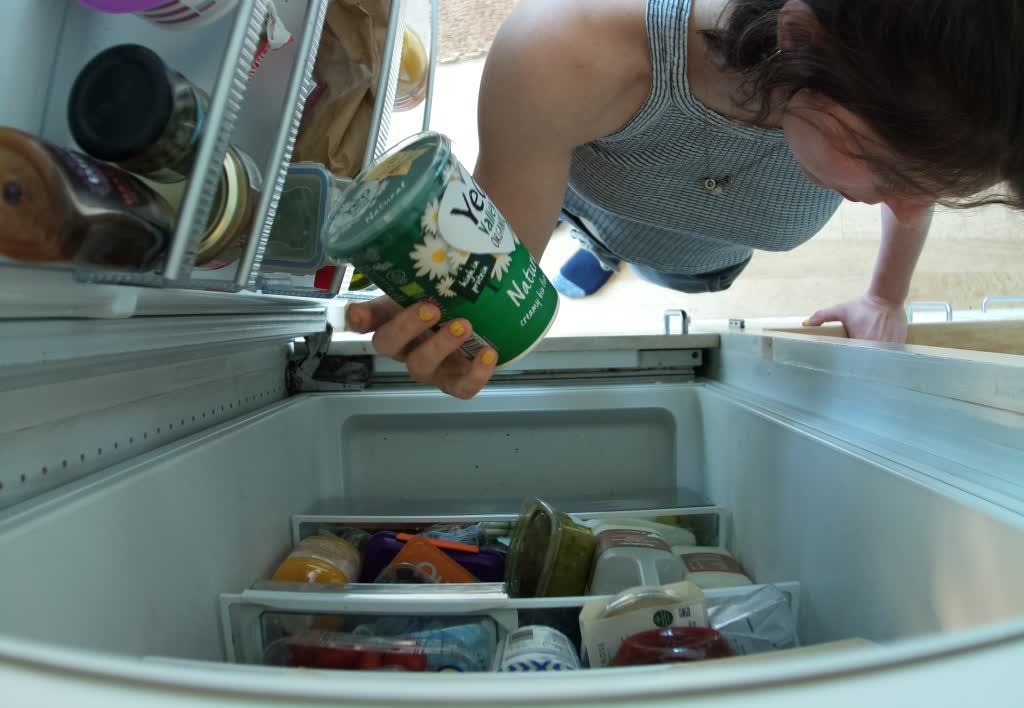yogurt: (310, 129, 563, 375)
